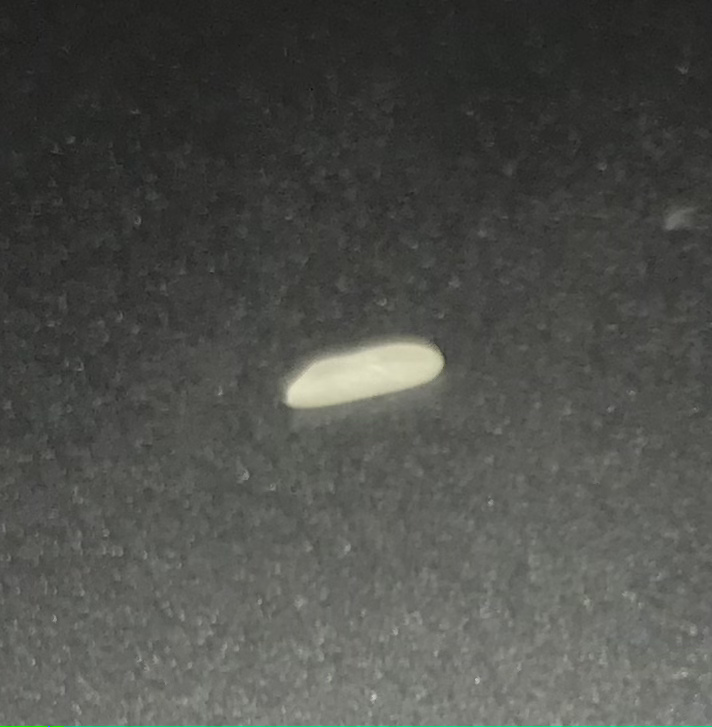Gao Tam Thom: (283, 323, 456, 411)
